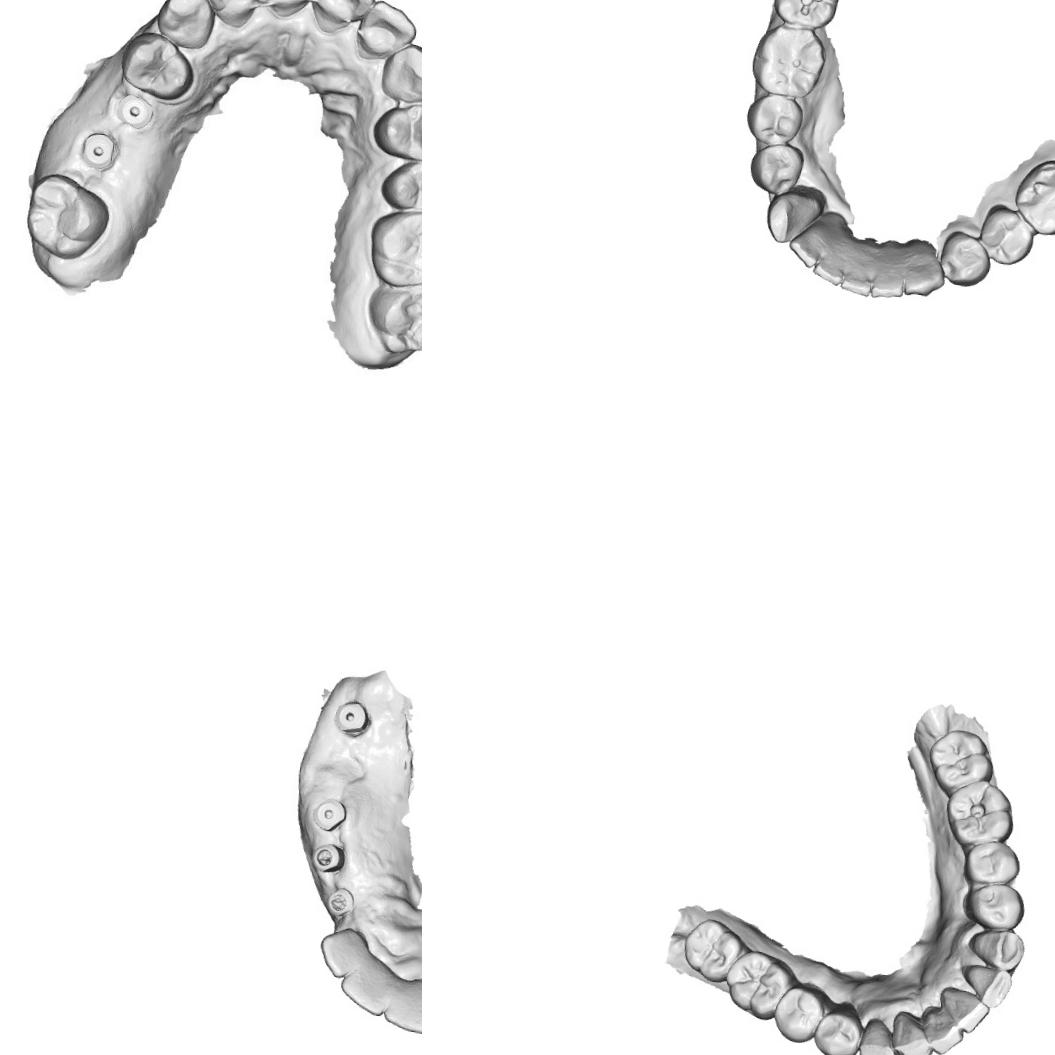canine: (762, 188, 823, 246), (154, 0, 217, 52), (902, 236, 948, 298), (379, 40, 422, 105), (966, 926, 1026, 972), (854, 1016, 902, 1055)
implant: (78, 126, 122, 171), (330, 697, 372, 738), (119, 92, 156, 133), (309, 795, 348, 832), (308, 840, 348, 875), (324, 884, 356, 918)
incisor: (336, 952, 396, 1018), (356, 0, 417, 59), (316, 924, 370, 981), (381, 969, 422, 1037), (936, 984, 991, 1034), (958, 962, 1013, 1011), (918, 1003, 965, 1055), (870, 237, 907, 300), (309, 0, 375, 34), (888, 1009, 935, 1055), (200, 0, 259, 30), (786, 226, 828, 268), (252, 0, 324, 18), (811, 250, 846, 287), (838, 265, 874, 297)
molar: (17, 166, 113, 264), (748, 20, 828, 100), (720, 948, 799, 1022), (942, 776, 1016, 854), (362, 203, 422, 291), (925, 727, 996, 798), (362, 277, 422, 361), (680, 915, 752, 985), (1011, 155, 1055, 238), (770, 0, 843, 30)
premolar: (118, 28, 197, 103), (975, 202, 1036, 267), (769, 980, 828, 1045), (743, 90, 805, 148), (371, 95, 422, 162), (936, 228, 992, 289), (961, 880, 1026, 932), (746, 140, 805, 196), (810, 999, 864, 1055), (961, 839, 1022, 888), (377, 152, 422, 216)
